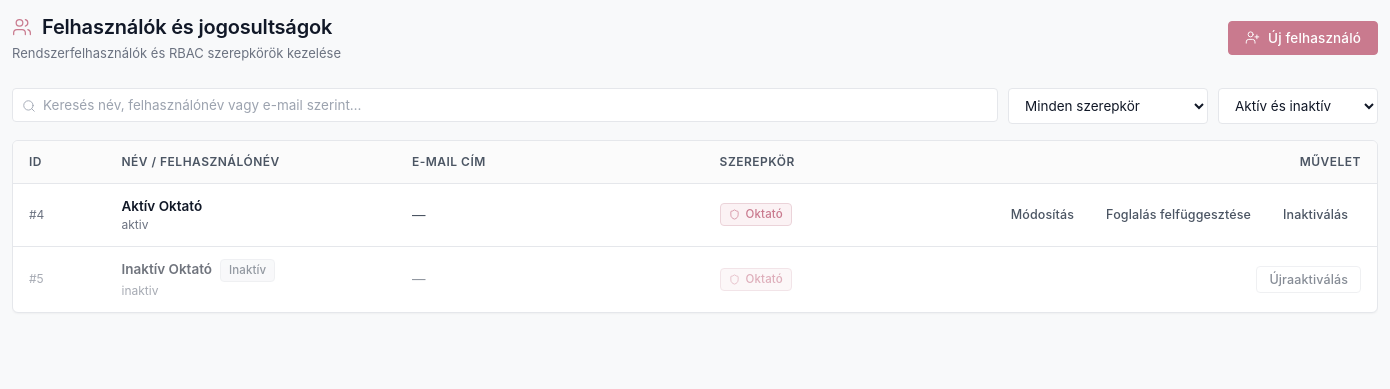
UsersPage › marks inactive users and reactivates them
Expected: the text "Inaktív" is shown, 220,259 -> 275,282
Click the button "Újraaktiválás". click: (1309, 279)
box: 1256,266 -> 1361,293
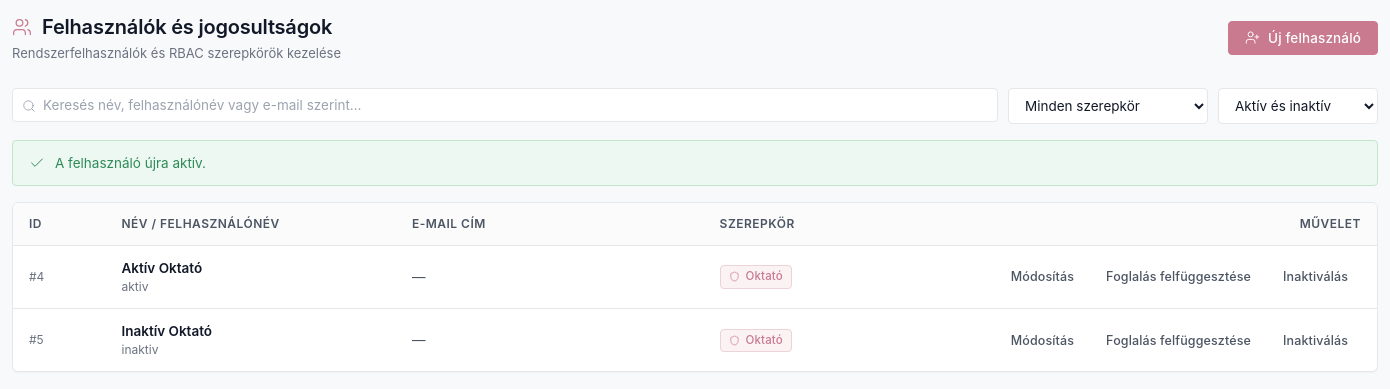
Expected: the text "A felhasználó újra aktív." is shown, 55,152 -> 206,173
